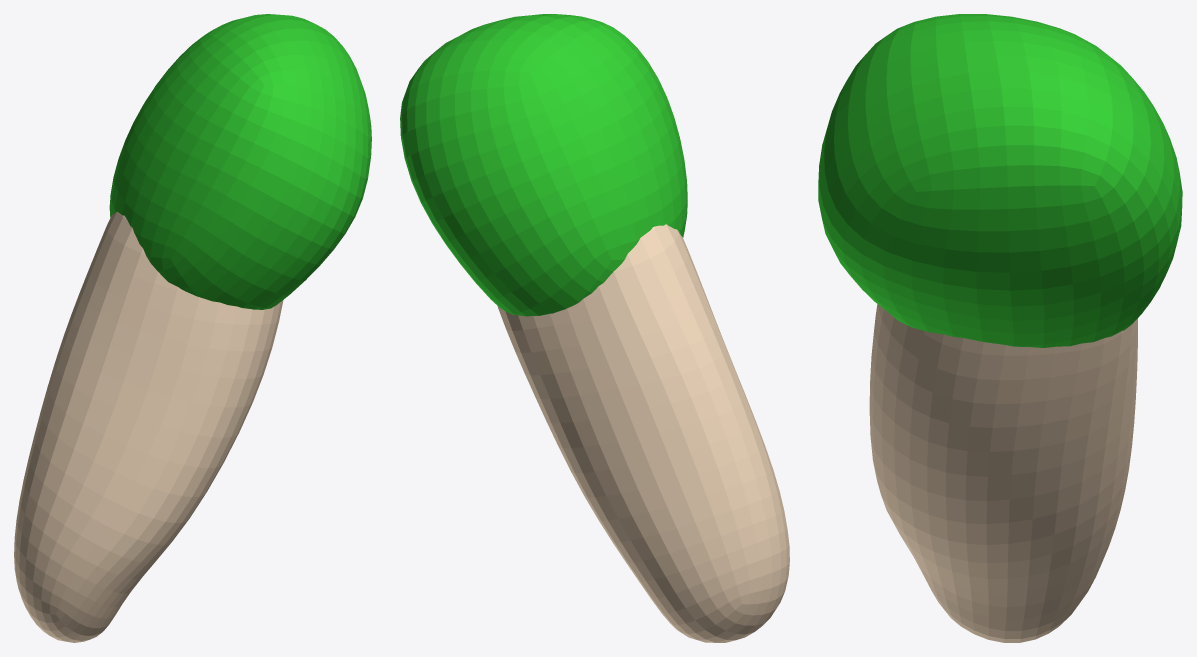
File: RightShoulder.fbx
3 views of the same model, side by side, from view 1: azimuth 30°, elevation 25°; view 2: azimuth 150°, elevation 25°; view 3: azimuth 270°, elevation 25° (orthographic). The views are drawn at different scales.
Visible parts, largest first — view 1: RightShoulder; view 2: RightShoulder; view 3: RightShoulder.
Boxes of the visible parts, box(x1,y1,x2,y2) form: RightShoulder: box(14, 14, 371, 642); RightShoulder: box(400, 14, 789, 642); RightShoulder: box(818, 14, 1182, 642).
Bounding box in the file's own units: 0.2039 × 0.3222 × 0.1456.
